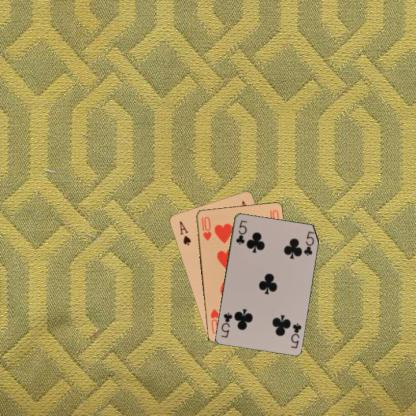10h: (198, 214, 212, 241)
5c: (288, 320, 302, 350), (233, 218, 248, 245)
As: (177, 218, 192, 247)
